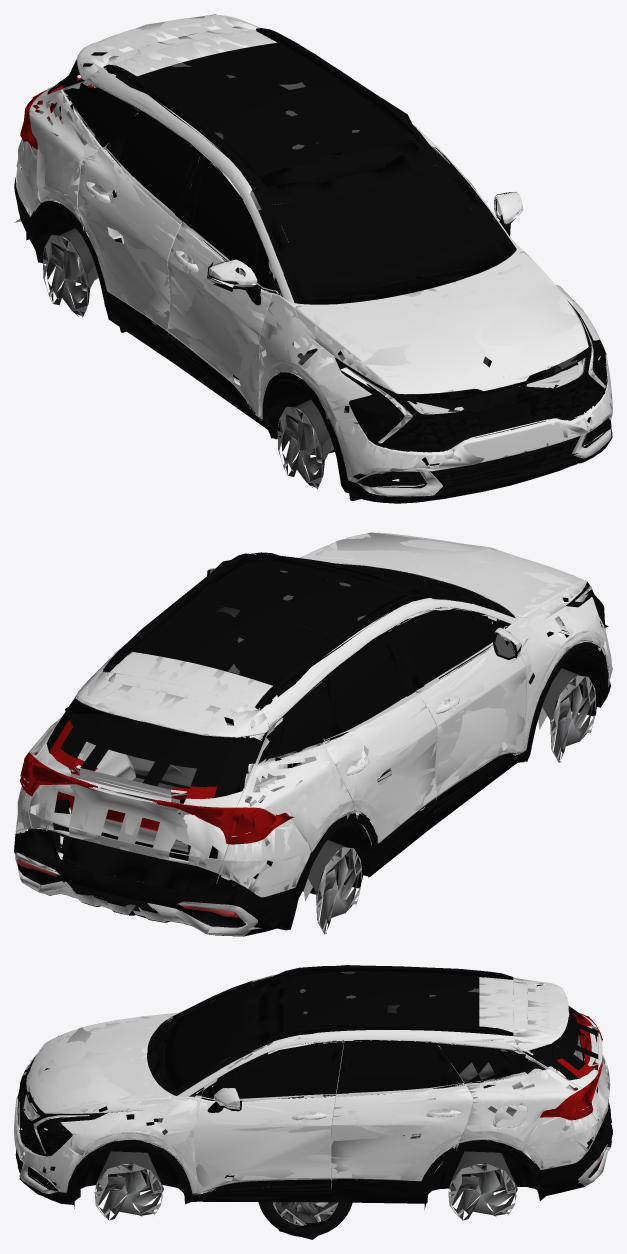
File: suv10.glb
3 views of the same model, one above another, from view 1: azimuth 30°, elevation 25°; view 2: azimuth 150°, elevation 25°; view 3: azimuth 270°, elevation 25° (orthographic). The views are drawn at different scales.
Visible parts, largest first — view 1: body0, body1, body2; view 2: body0, body1, body2; view 3: body0, body1, body2, wheel0, wheel1.
Part boxes in pixels (left/top/right/bottom): body0: left=14, top=15, right=612, bottom=503; body1: left=15, top=15, right=612, bottom=502; body2: left=14, top=14, right=612, bottom=489; body0: left=14, top=533, right=611, bottom=936; body1: left=14, top=532, right=611, bottom=935; body2: left=15, top=532, right=612, bottom=934; body0: left=14, top=965, right=612, bottom=1208; body1: left=14, top=965, right=612, bottom=1209; body2: left=14, top=971, right=610, bottom=1220; wheel0: left=258, top=1202, right=352, bottom=1236; wheel1: left=263, top=1202, right=348, bottom=1239.
Bounding box in the file's own units: 2.11 × 2.04 × 4.66.
